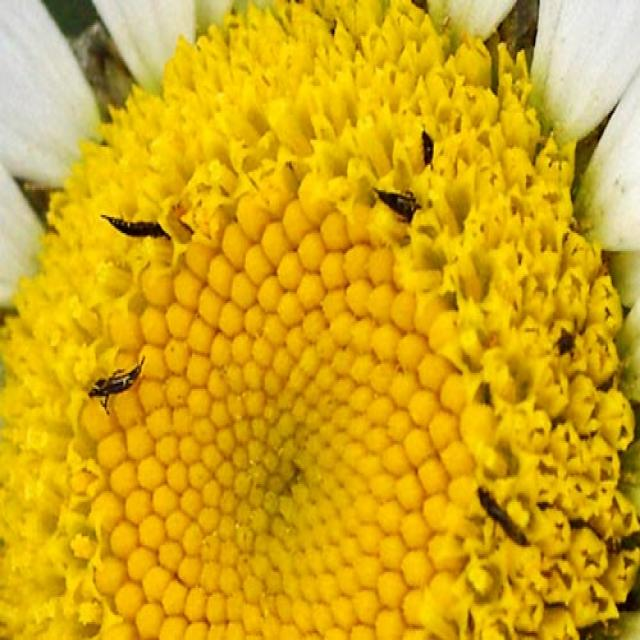Thrip-Adult-: (472, 476, 533, 550), (85, 352, 156, 410), (97, 210, 185, 253), (377, 185, 432, 224), (414, 126, 446, 184)
